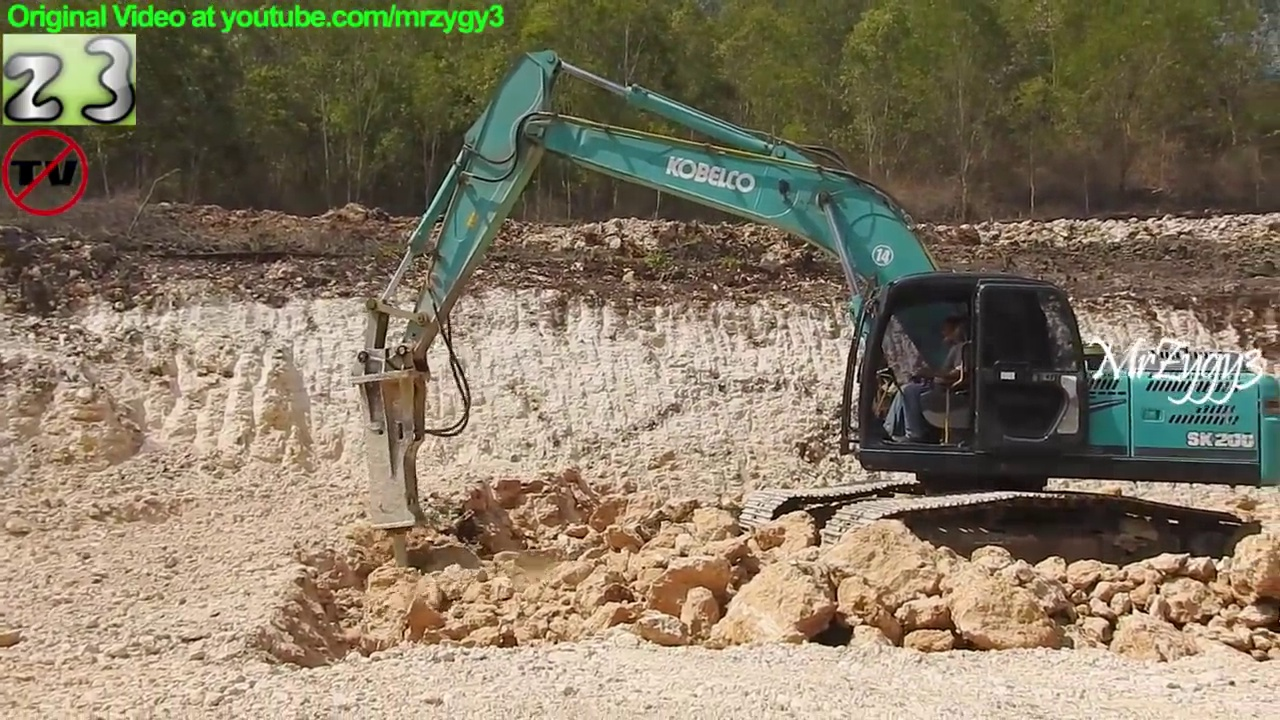excavator breaker: (341, 44, 1280, 581)
